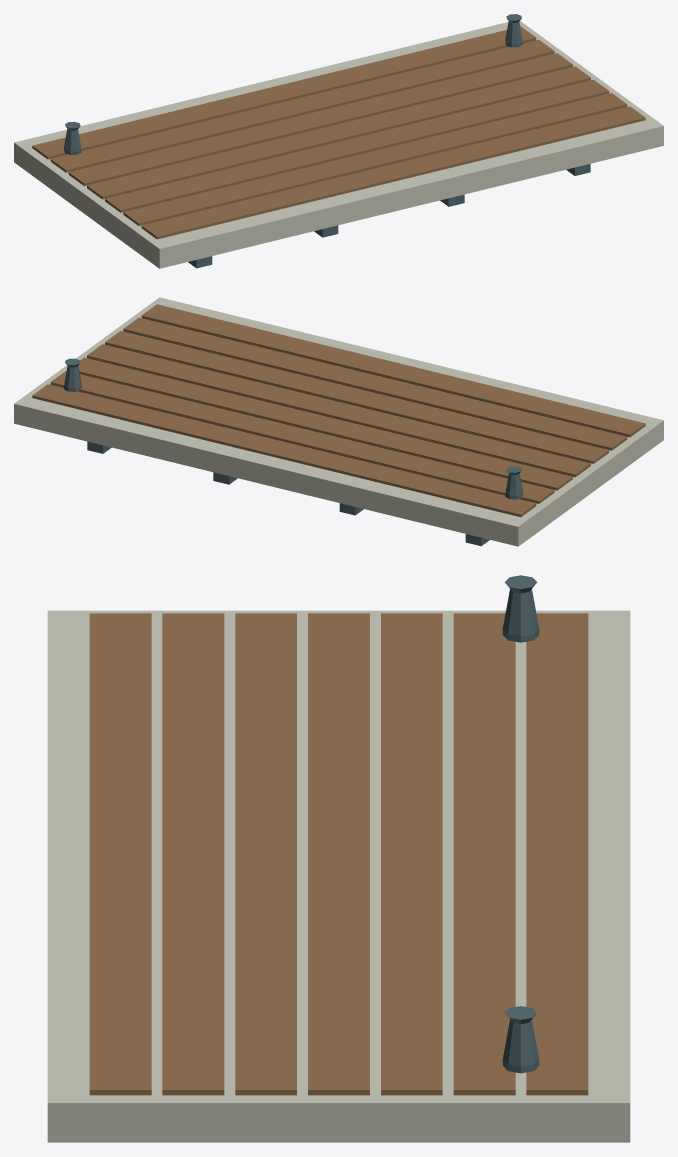
The model's file is KOL_HBR_RF_07.fbx.
The picture shows the model from 3 angles, top to bottom: view 1: azimuth 30°, elevation 25°; view 2: azimuth 150°, elevation 25°; view 3: azimuth 270°, elevation 25°; orthographic projection. The views are drawn at different scales.
Visible parts, largest first — view 1: KOL_HBR_RF_07__Landing__Timber, KOL_HBR_RF_07__Landing__Concrete, KOL_HBR_RF_07__Landing__DarkSteel; view 2: KOL_HBR_RF_07__Landing__Timber, KOL_HBR_RF_07__Landing__Concrete, KOL_HBR_RF_07__Landing__DarkSteel; view 3: KOL_HBR_RF_07__Landing__Timber, KOL_HBR_RF_07__Landing__Concrete, KOL_HBR_RF_07__Landing__DarkSteel.
Boxes of the visible parts, x1,y1,x2,y2 form: KOL_HBR_RF_07__Landing__Timber: (32, 26, 645, 239); KOL_HBR_RF_07__Landing__Concrete: (14, 21, 663, 268); KOL_HBR_RF_07__Landing__DarkSteel: (64, 14, 590, 268); KOL_HBR_RF_07__Landing__Timber: (32, 304, 645, 517); KOL_HBR_RF_07__Landing__Concrete: (14, 297, 663, 546); KOL_HBR_RF_07__Landing__DarkSteel: (64, 358, 522, 546); KOL_HBR_RF_07__Landing__Timber: (89, 613, 588, 1095); KOL_HBR_RF_07__Landing__Concrete: (47, 610, 630, 1142); KOL_HBR_RF_07__Landing__DarkSteel: (502, 575, 539, 1073).
Bounding box in the file's own units: 32 × 4.6 × 16.
